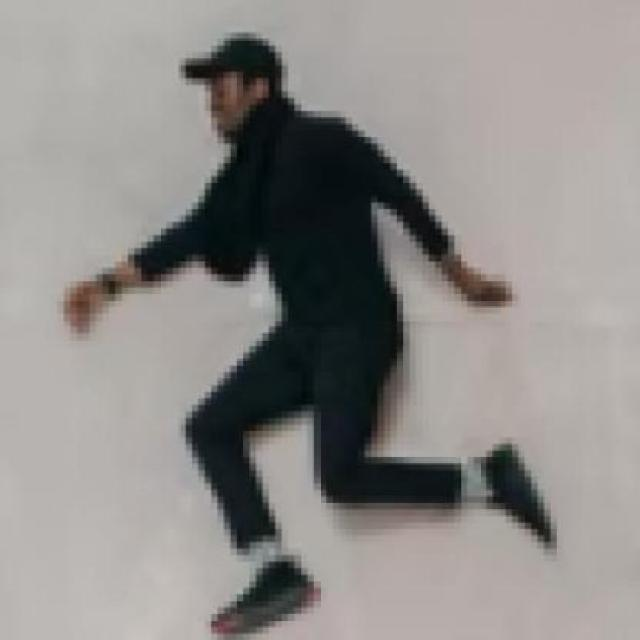fall: (64, 33, 567, 638)
